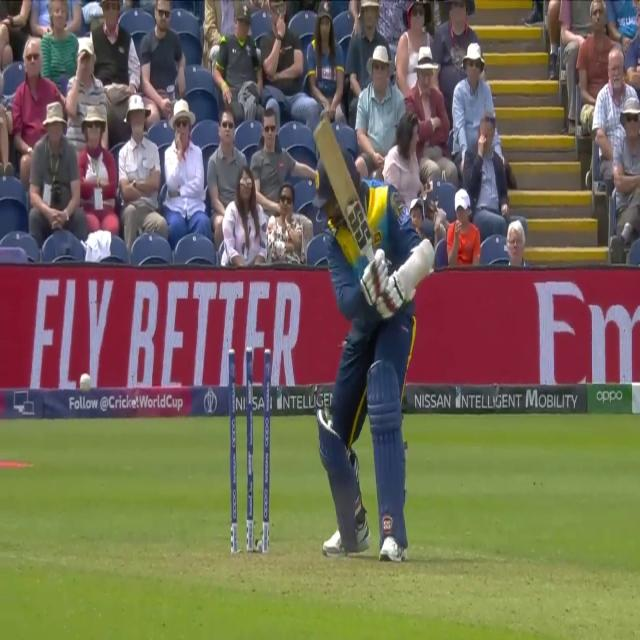ball: (77, 368, 95, 400)
